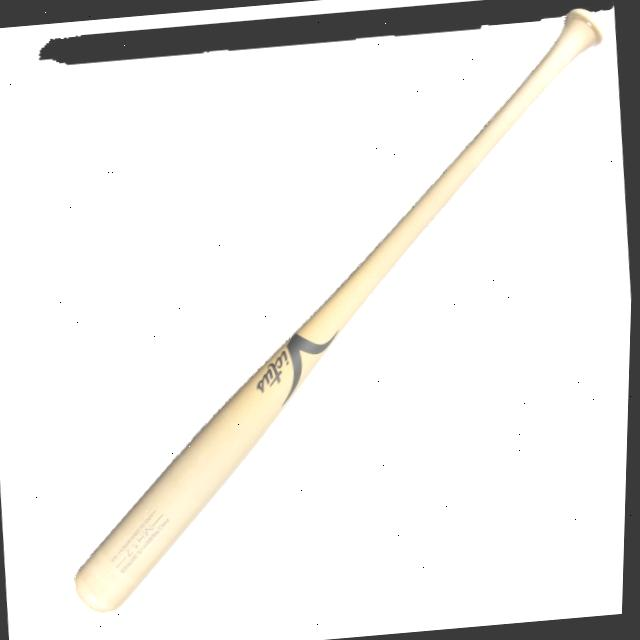baseball bat: (0, 45, 632, 640)
